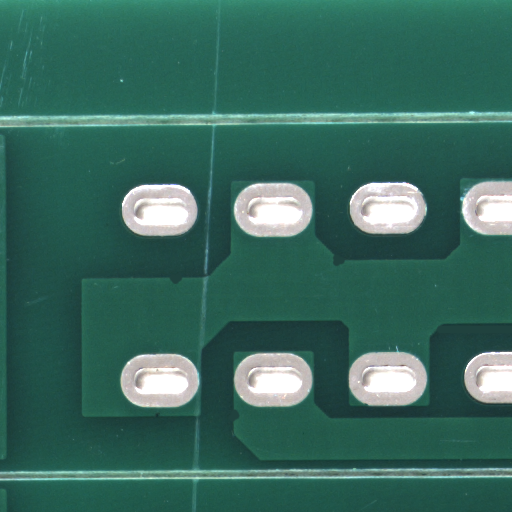Mouse_bite: (338, 260, 352, 273), (236, 417, 243, 431), (176, 280, 189, 287)
